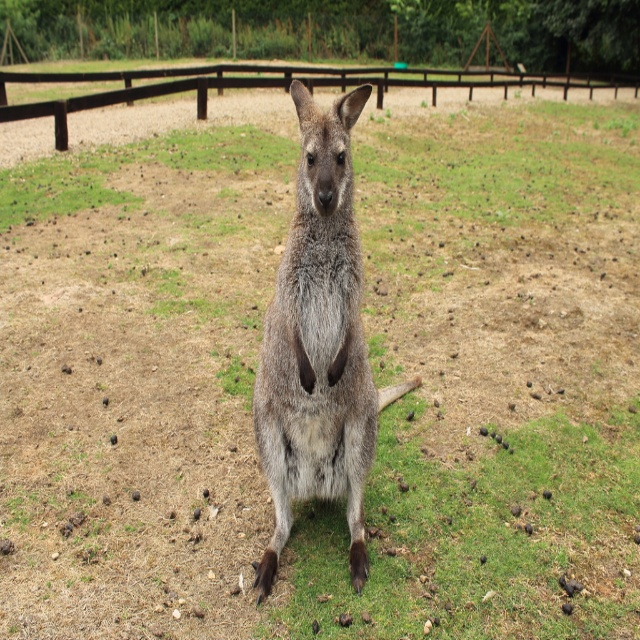Kangaroo: (246, 85, 423, 600)
